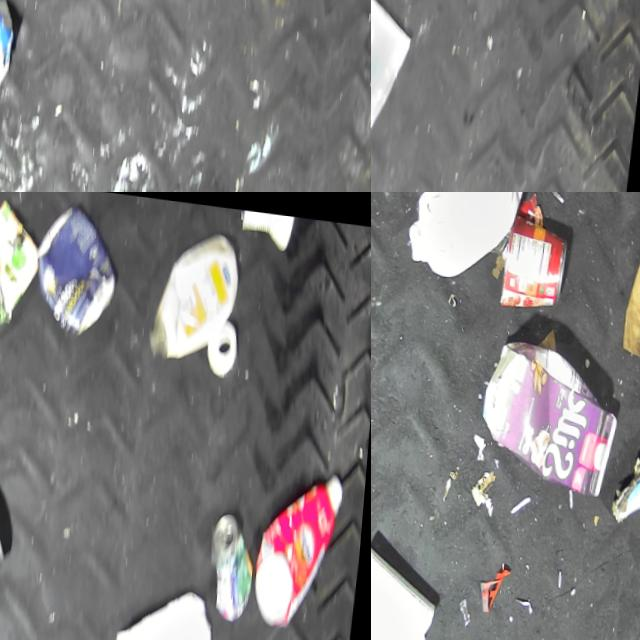can: (28, 192, 126, 339), (500, 204, 571, 305), (206, 498, 265, 612), (0, 192, 47, 327), (234, 198, 296, 247), (0, 473, 19, 620)
milk_jug: (403, 192, 532, 277)
non_white_jug: (481, 324, 628, 487), (254, 447, 350, 623)
